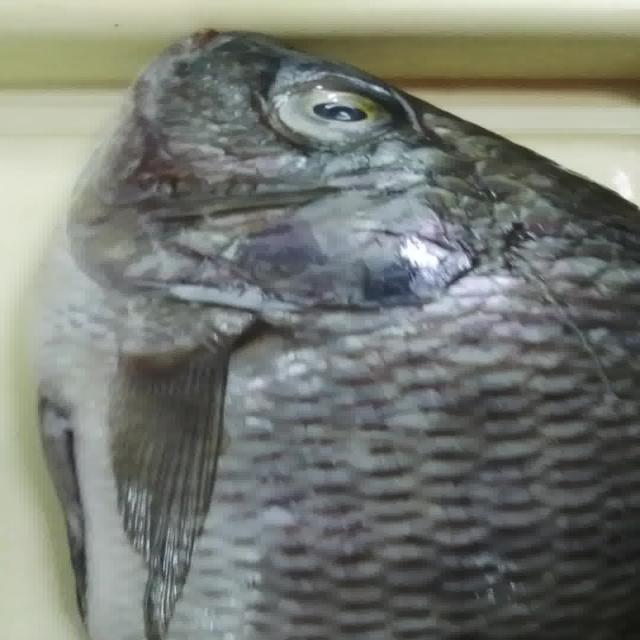Non-Fresh: (277, 74, 401, 156)
